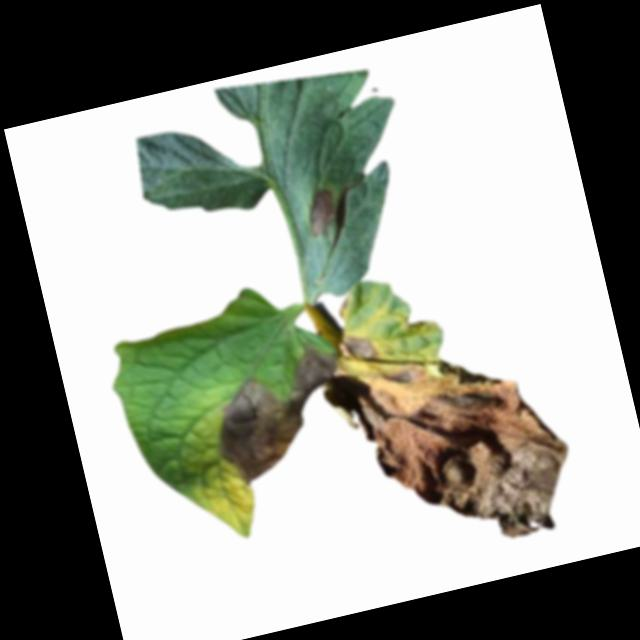Early_blight: (354, 332, 587, 565), (200, 343, 357, 487), (302, 187, 341, 239), (342, 328, 378, 363), (335, 297, 353, 318)
